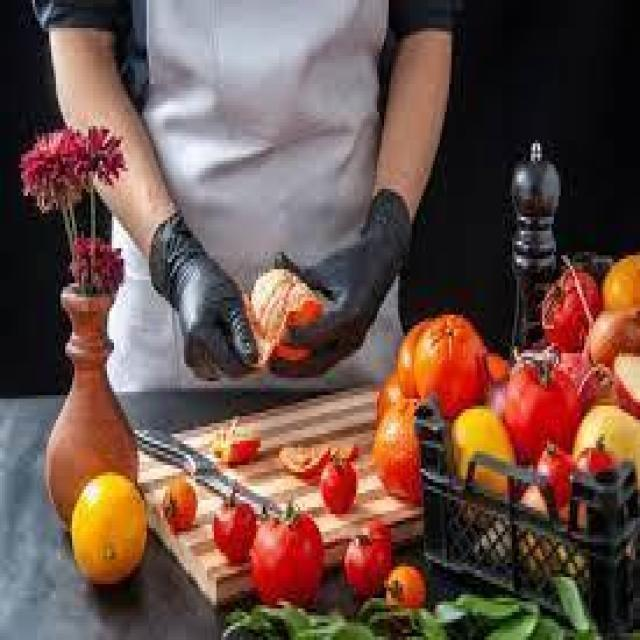apron: (281, 190, 408, 381), (154, 214, 252, 380)
